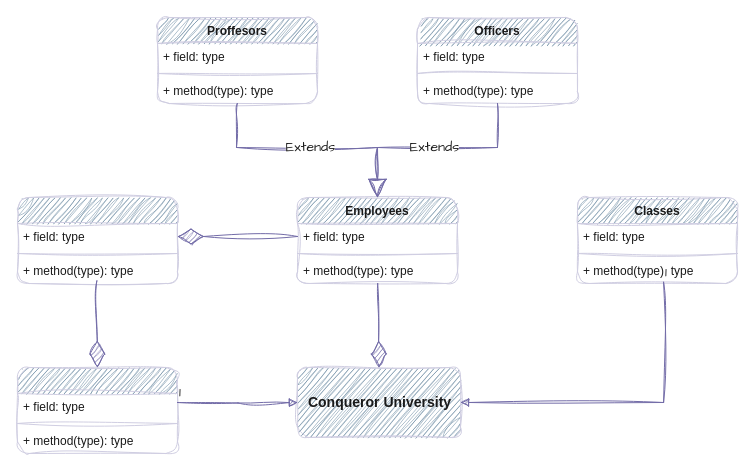
Image size: 755x474. Some labels were removed from this diagram. The shapes that lost their labels are listed below. From the top down, each one's box as (x1, y1, x2, y2) in pixels, then its label:
(16, 196, 178, 284): Offices
(16, 366, 178, 454): Departments
